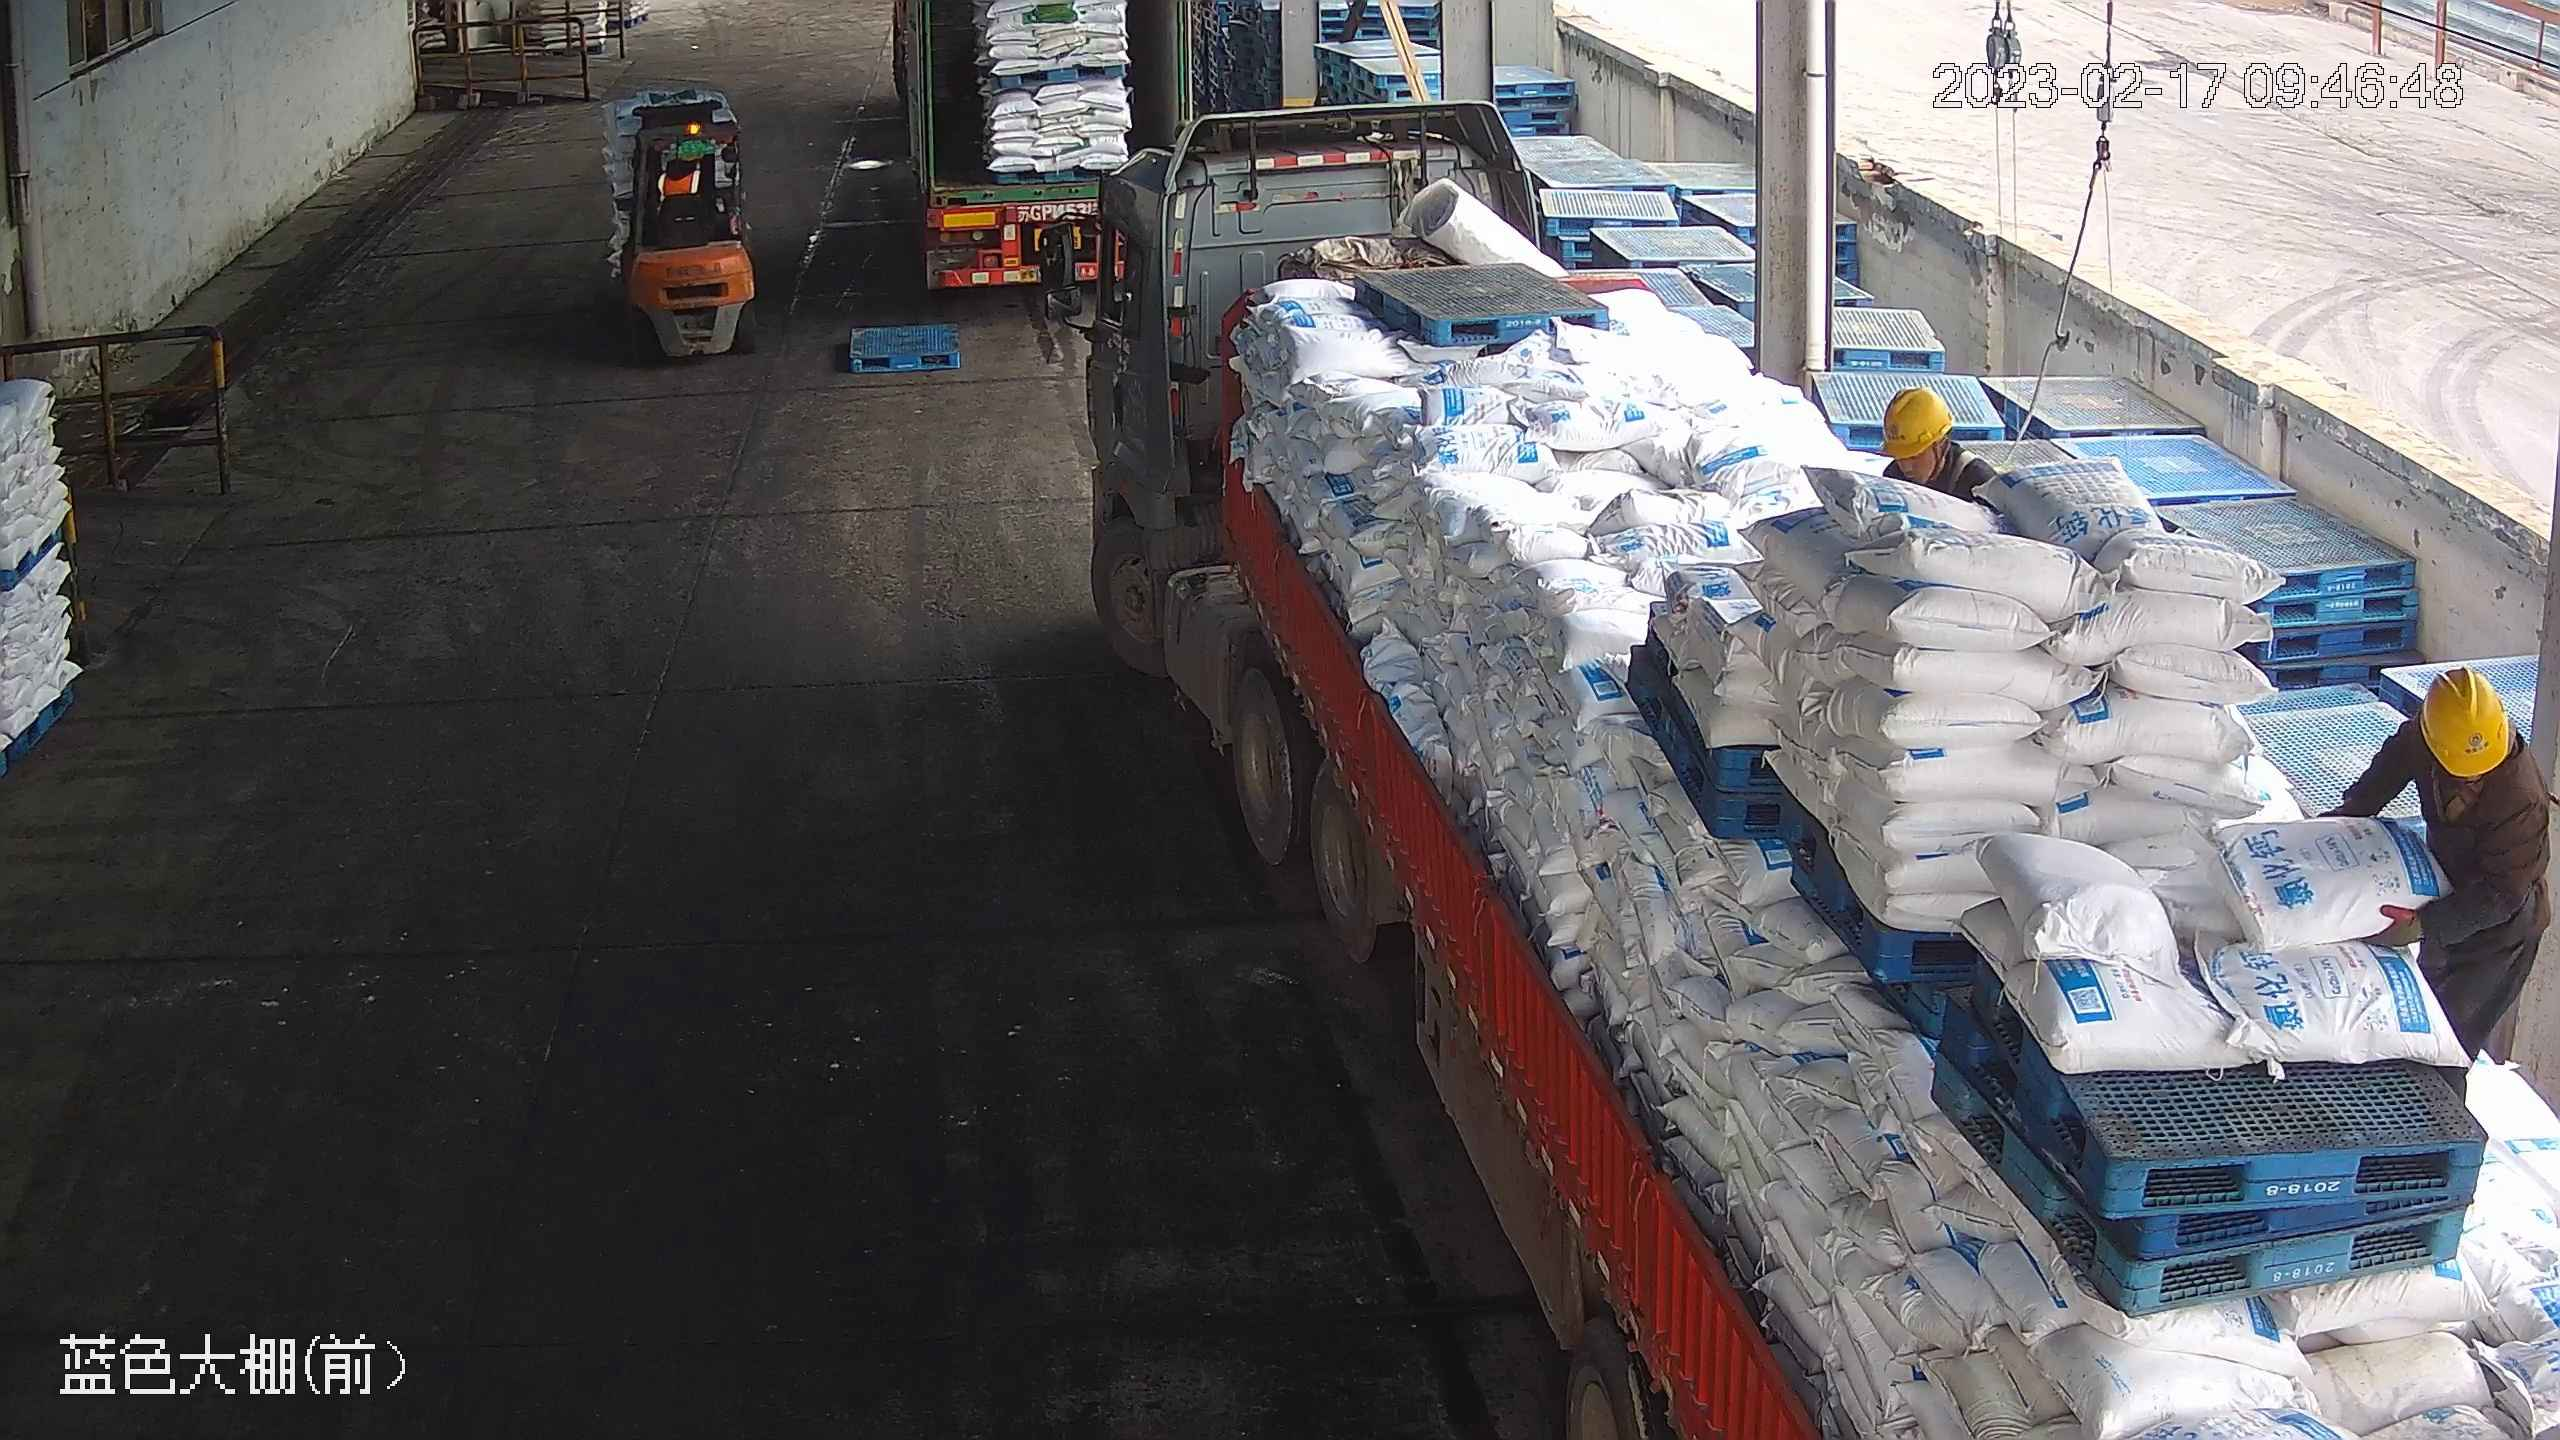belt: (2413, 772, 2504, 826)
head: (2377, 660, 2540, 829)
helmet: (2416, 659, 2513, 781), (1878, 384, 1955, 460)
people: (2334, 655, 2547, 1062)
truck: (1051, 149, 2553, 1438), (888, 3, 1216, 310)
